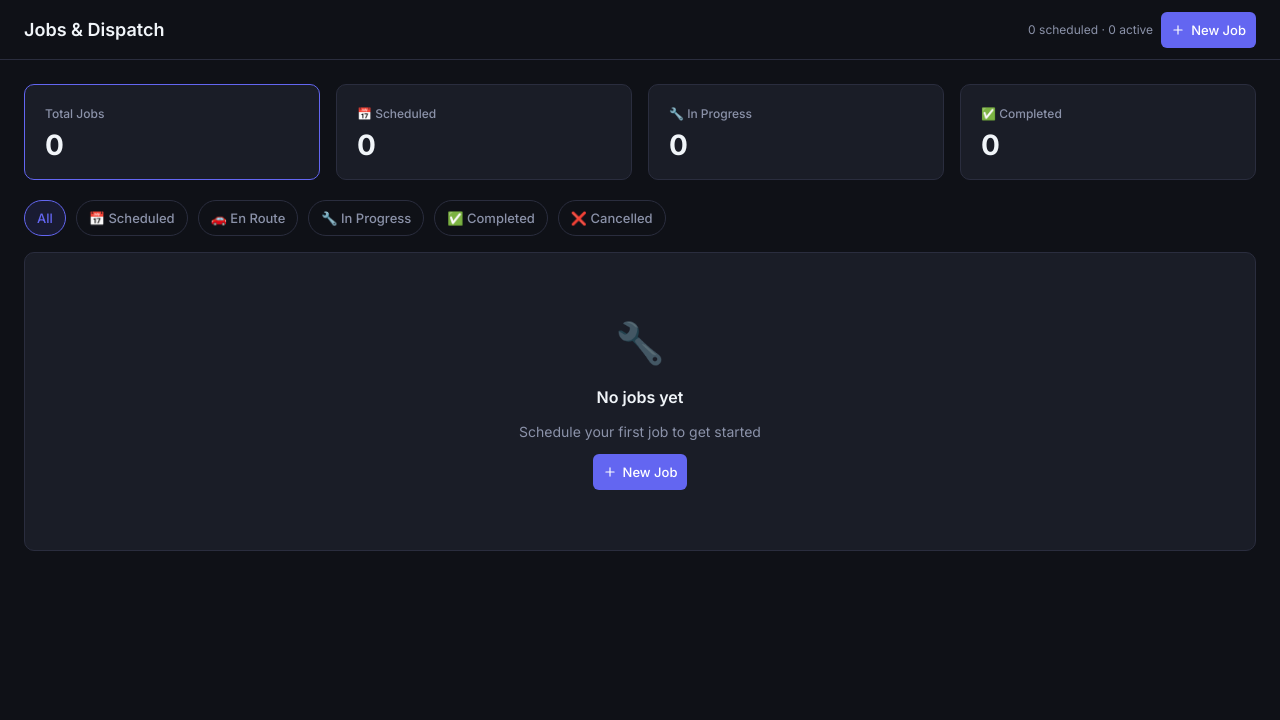
Scenario: JobsPage › opens new job form
This screenshot has width=1280, height=720.
Click the button "New Job" next to "active": (1209, 30) top-left (1161, 12), bottom-right (1256, 48)
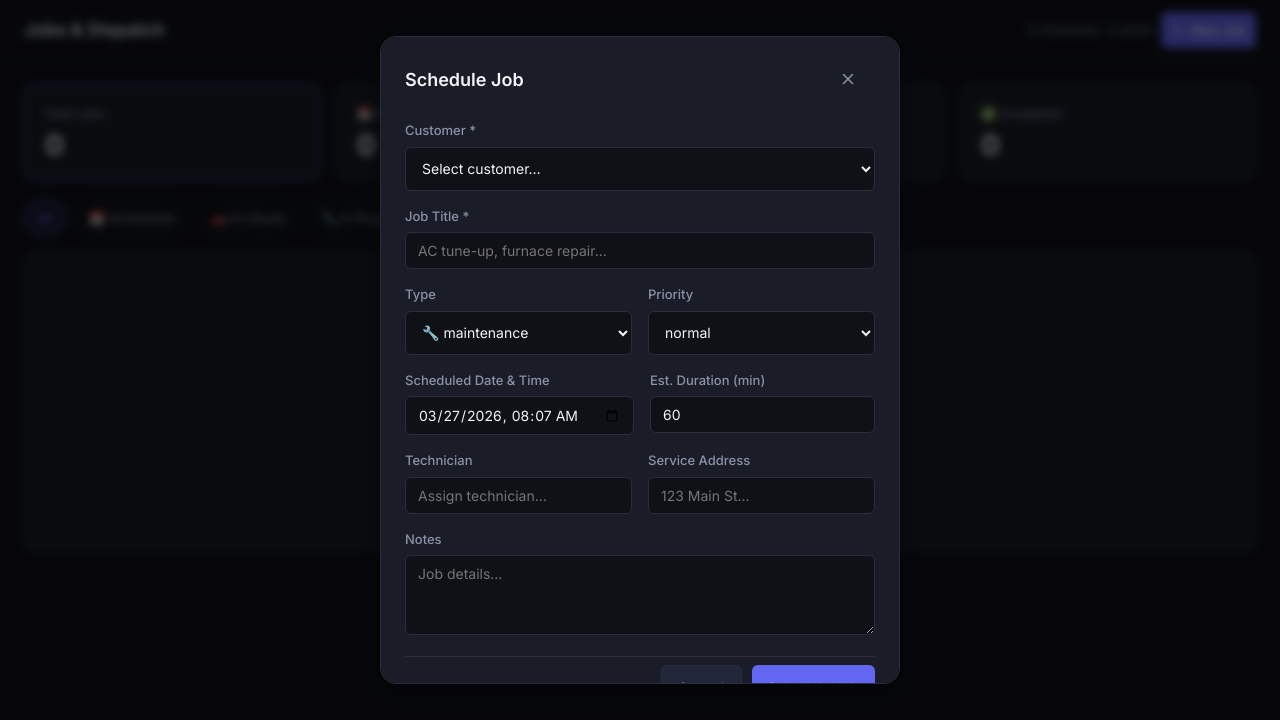
Expected: the heading "Schedule Job" is shown, top-left (405, 66), bottom-right (524, 92)
